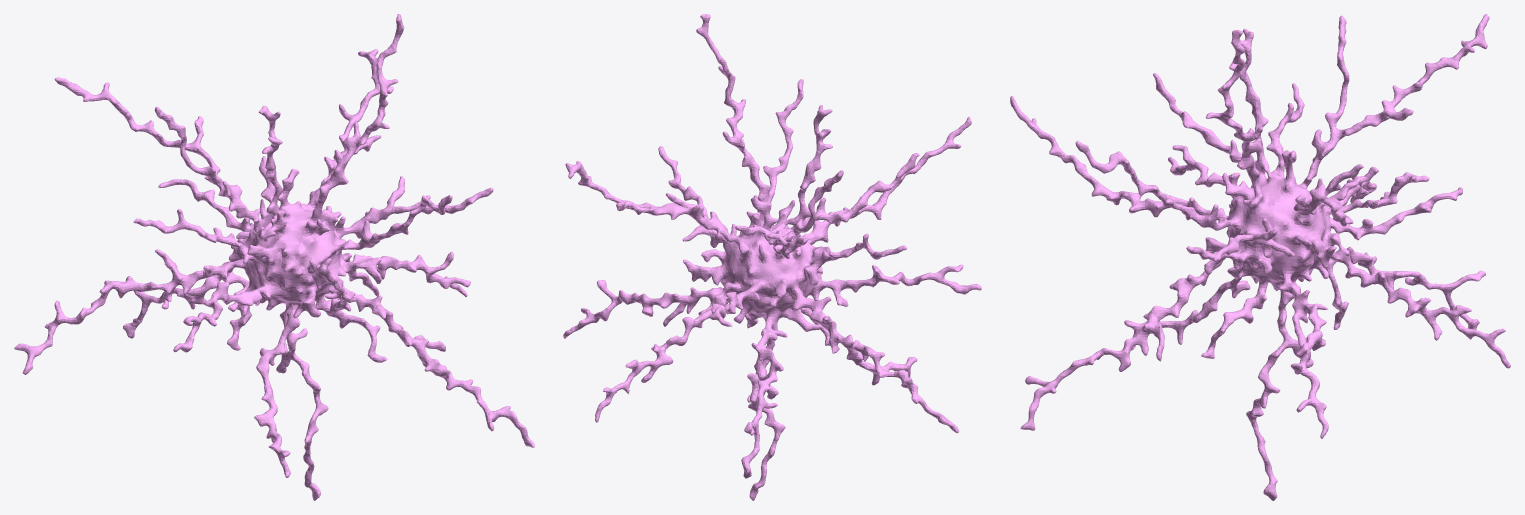
The model's file is virus.glb.
3 renders of one model, left to right at view 1: azimuth 30°, elevation 25°; view 2: azimuth 150°, elevation 25°; view 3: azimuth 270°, elevation 25°, orthographic. The views are drawn at different scales.
Visible parts, largest first — view 1: geo1; view 2: geo1; view 3: geo1.
Part boxes in pixels (bbox=[...]): geo1: bbox=[14, 14, 534, 500]; geo1: bbox=[563, 14, 981, 500]; geo1: bbox=[1010, 14, 1510, 500].
Bounding box in the file's own units: 5.23 × 5.6 × 5.03.
